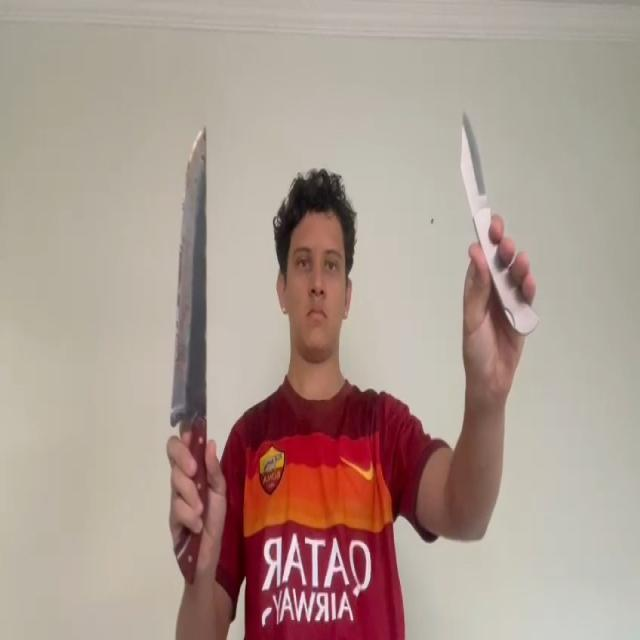knife: (171, 125, 210, 426), (458, 111, 488, 220)
